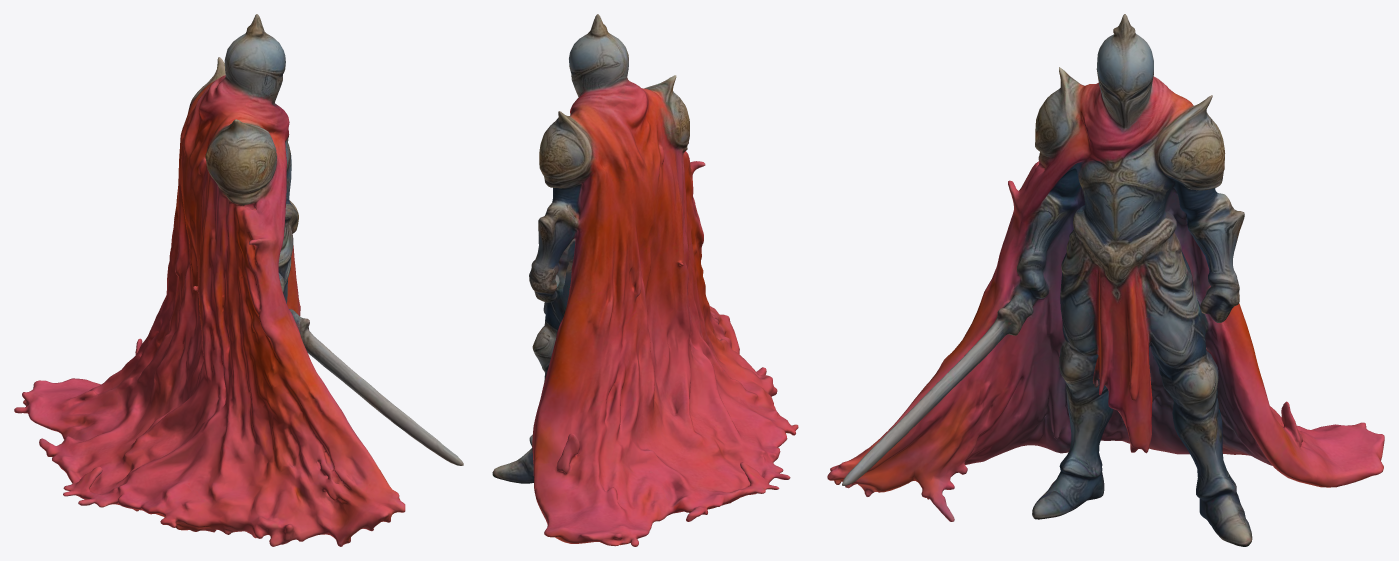
The model's file is knight.glb.
3 views of the same model, side by side, from view 1: azimuth 30°, elevation 25°; view 2: azimuth 150°, elevation 25°; view 3: azimuth 270°, elevation 25° (orthographic). The views are drawn at different scales.
Bounding box in the file's own units: 0.5861 × 0.9358 × 0.926.
Materials: 1 (1 with a texture image).
